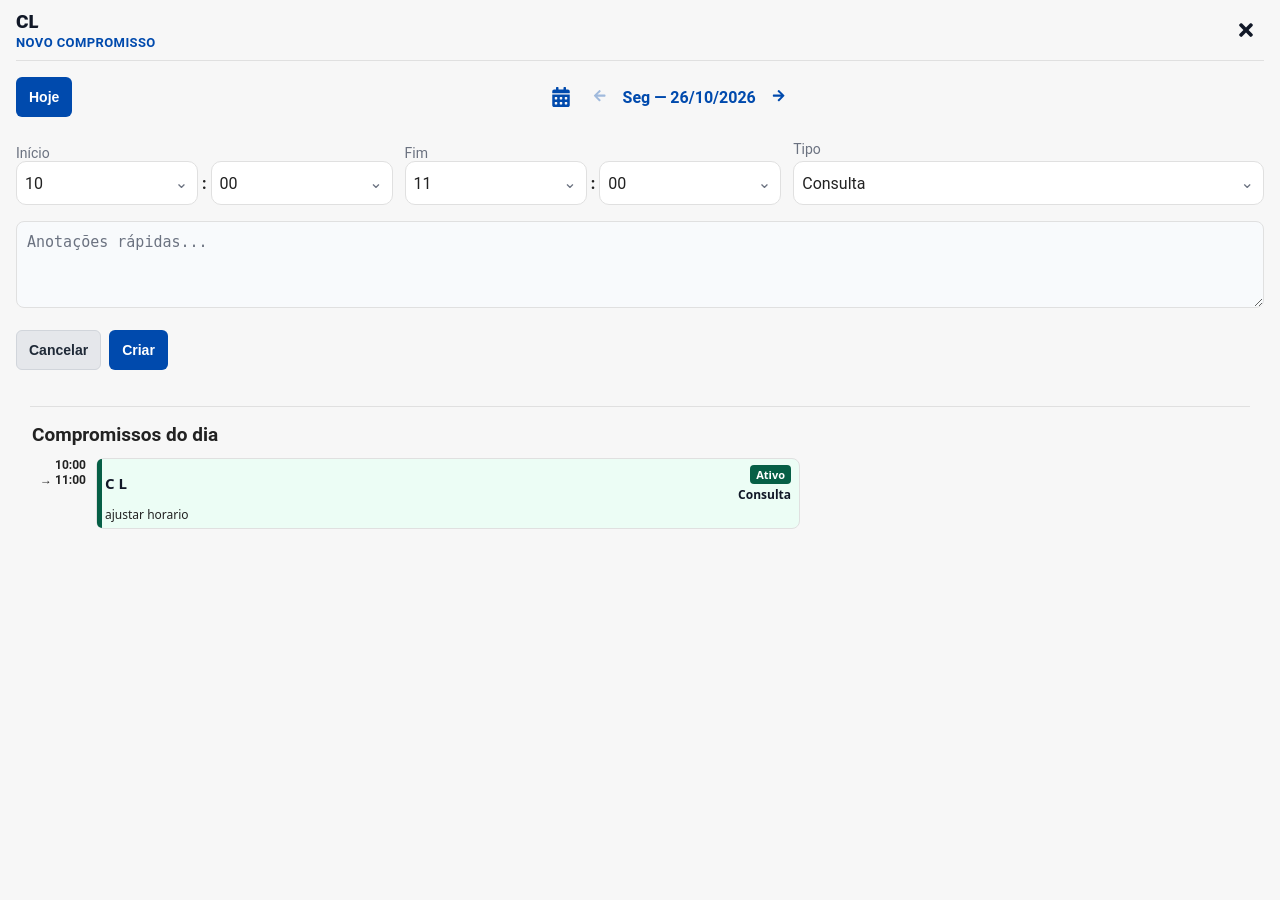
QuickScheduleModal › loads the selected appointment into the form when editing from the day card
This screenshot has width=1280, height=900.
What coordinates should you click on to do the following:
click the text "C L"
I would click on:
 (116, 483)
Its box is [105, 473, 127, 493].
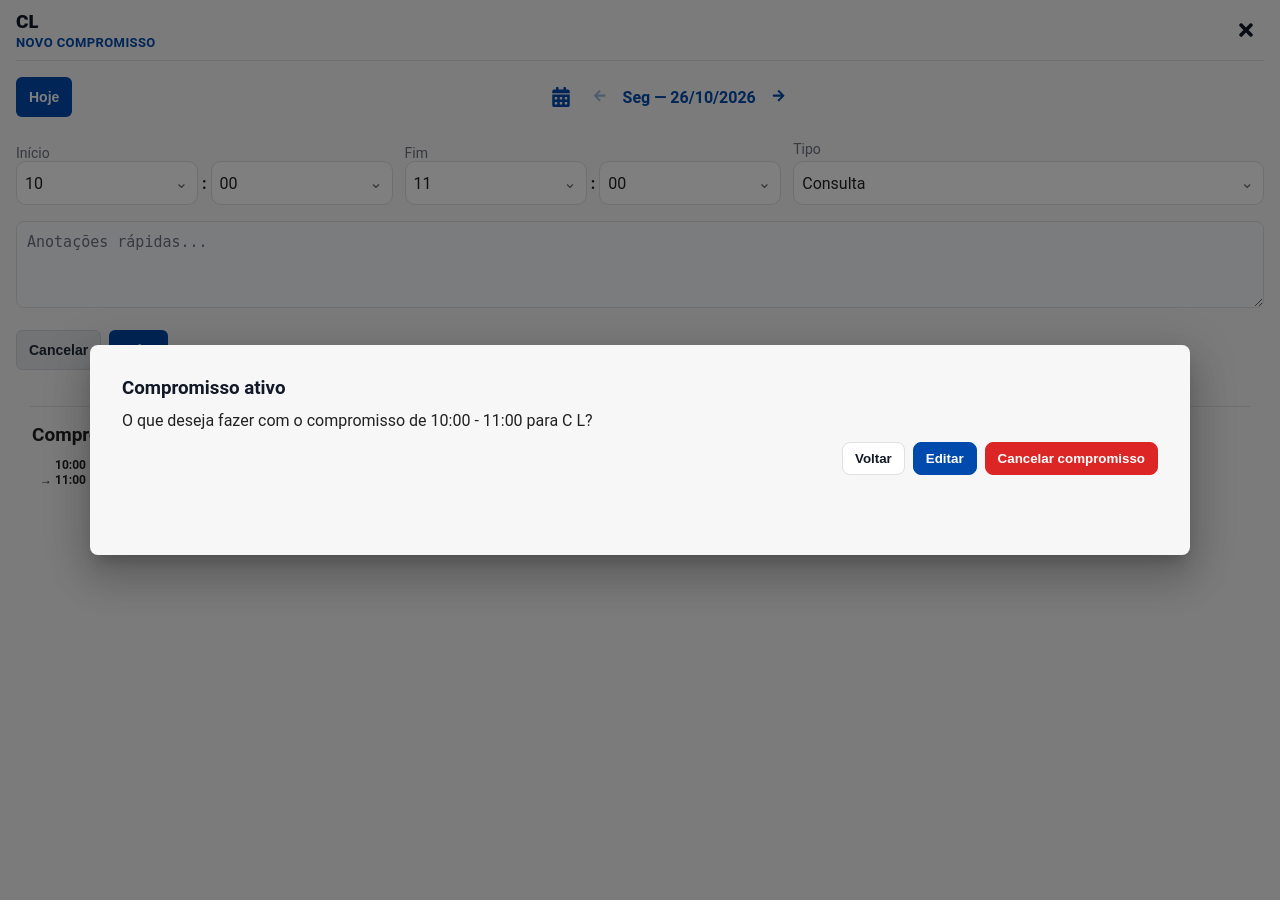
What coordinates should you click on to do the following:
click the button "Editar"
I would click on:
 (945, 458)
Its box is [913, 442, 977, 475].
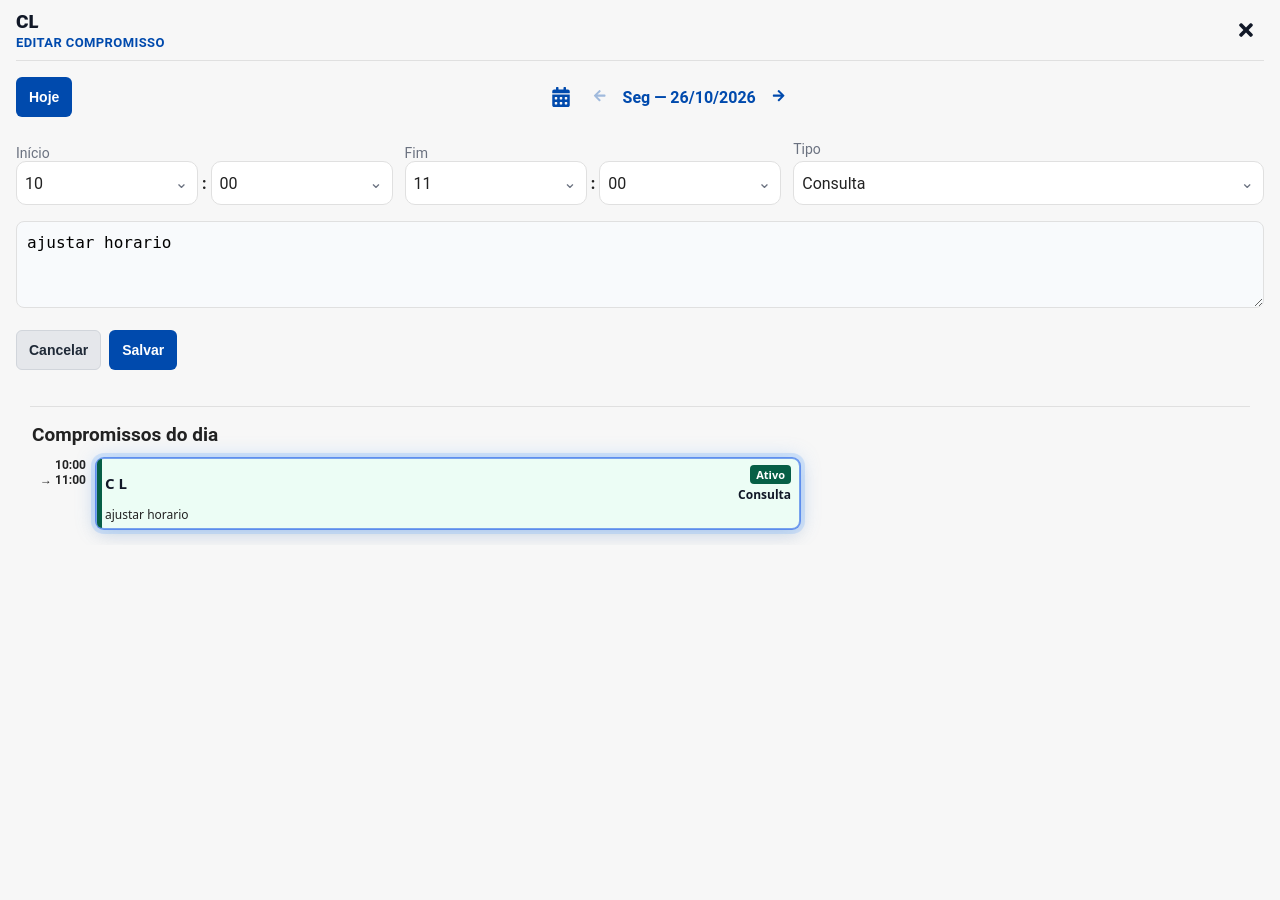
Expected: the button named "Início hora" reads "10", [16, 161, 198, 205]
Now the button "Salvar" is shown, box [109, 330, 177, 370]
Now the text box holds "ajustar horario", box [16, 221, 1264, 308]
